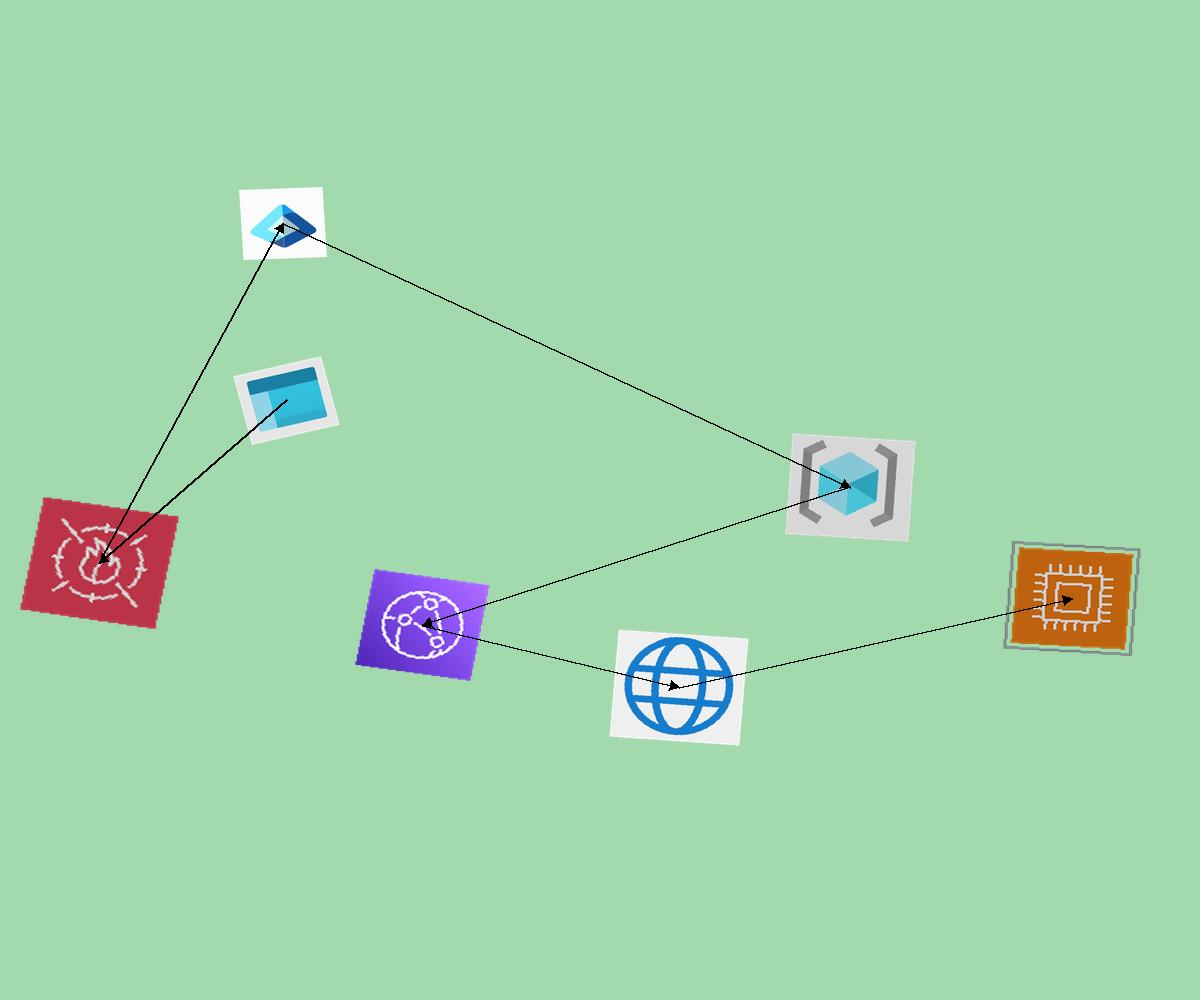AWS-Category_Compute: (1002, 540, 1142, 657)
AWS-CloudFront: (354, 568, 491, 682)
AWS-WAF: (19, 496, 180, 630)
Azure_http: (609, 629, 749, 746)
Azure_management-portal: (233, 356, 340, 445)
Azure_microsoft_entra: (239, 187, 327, 260)
Azure_resource_group: (785, 433, 916, 542)
